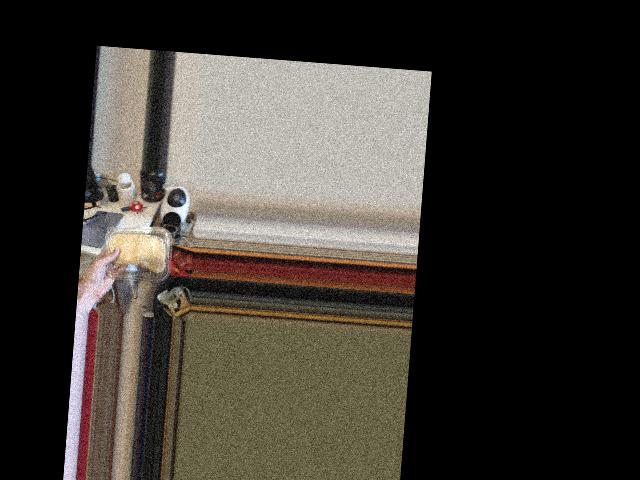cheese: (104, 218, 168, 286)
